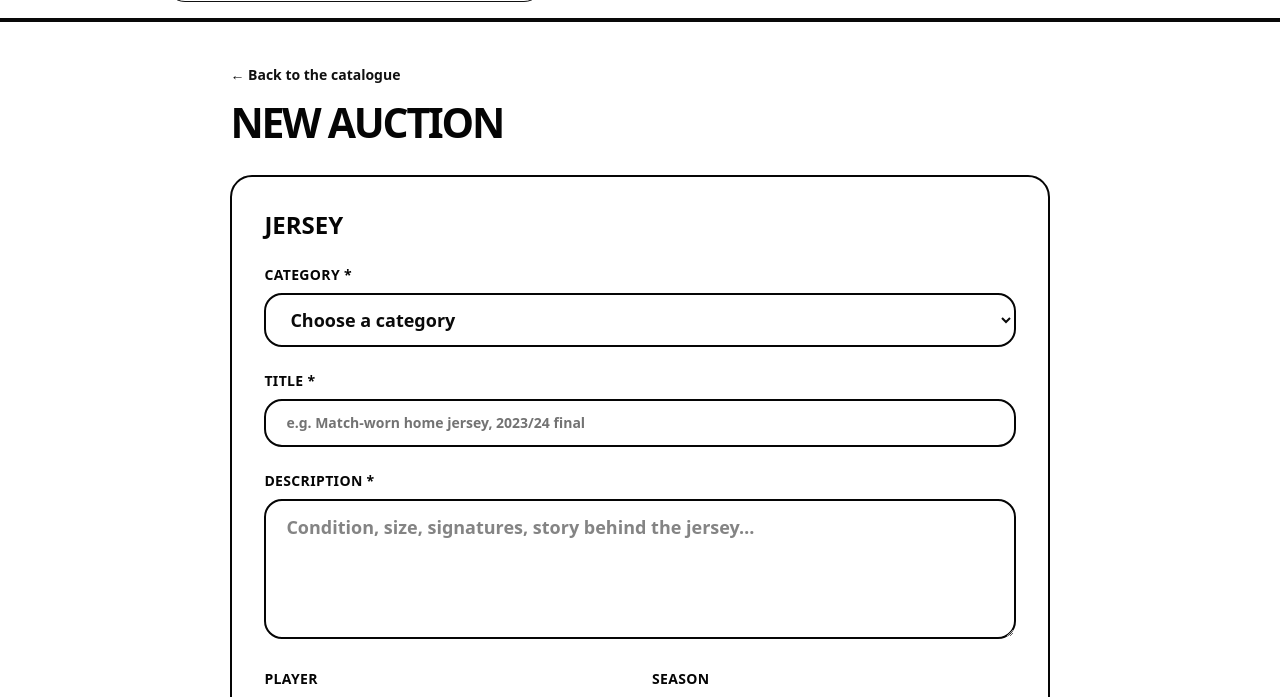
Test: NewListingView: saving › sends the listing for verification with the other button
Select "Player jerseys" in the dropdown labelled "Category *" at (640,320), box [264,293,1016,347]
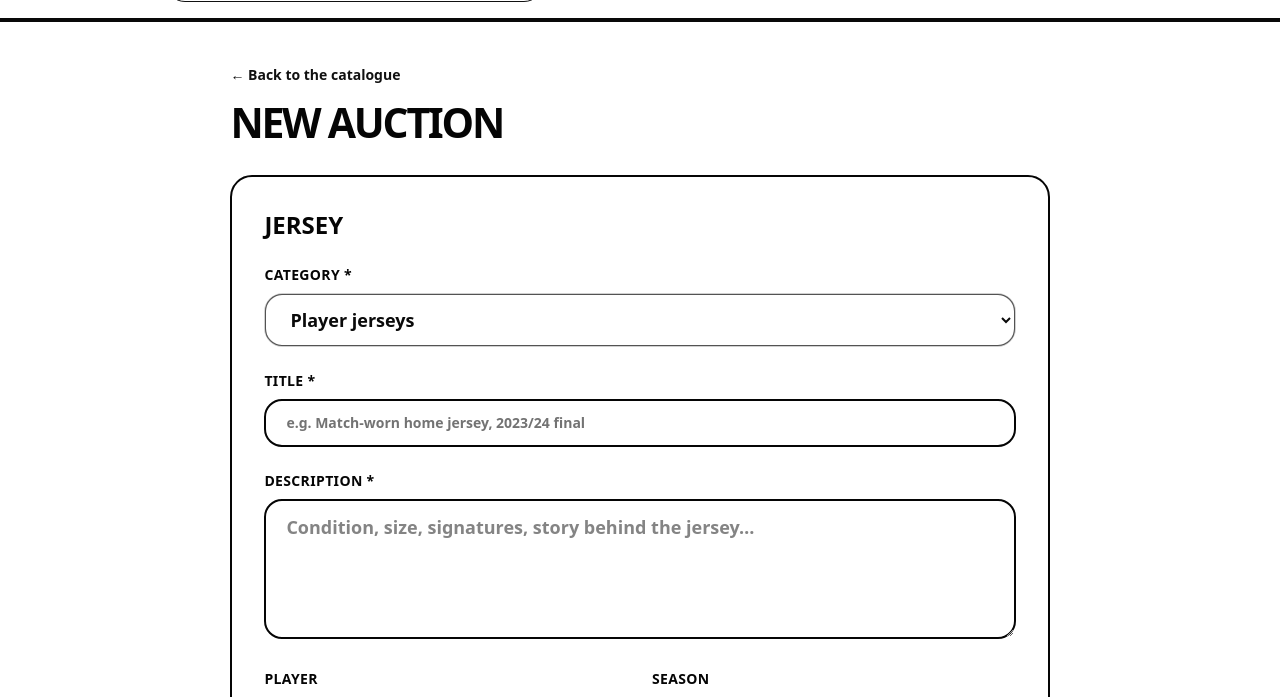
Type "Signed home shirt" into the field labelled "Title *" at (640,423), box [264,399,1016,447]
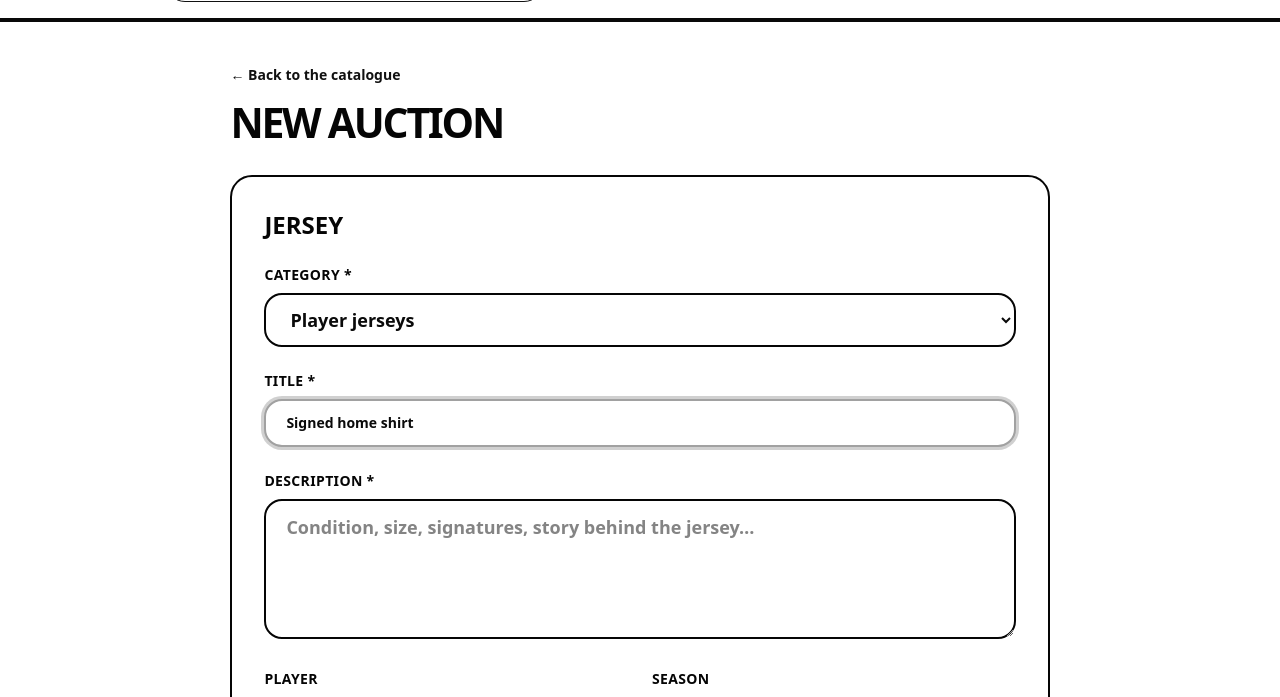
Type "Signed by the whole squad after the final." into the text box labelled "Description *" at (640,569), box [264,499,1016,639]
(page scrolled)
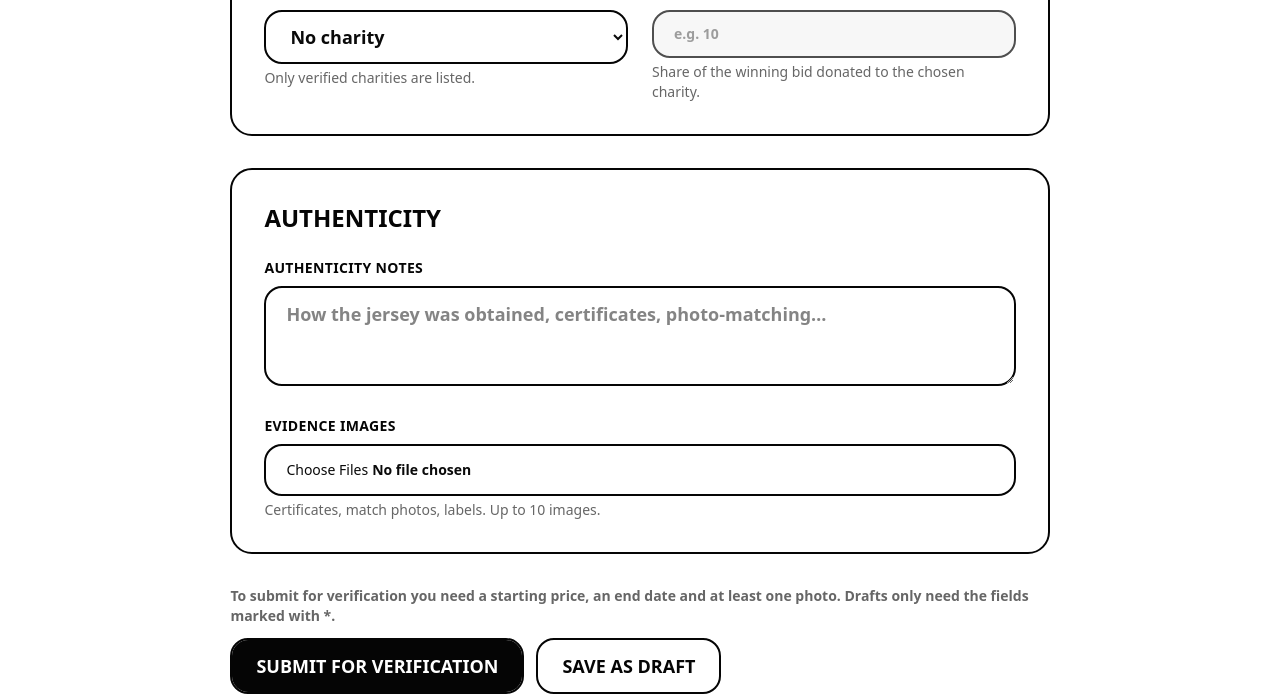
Click the button "SUBMIT FOR VERIFICATION" at (377,666), box [230,638,524,694]
(page scrolled)
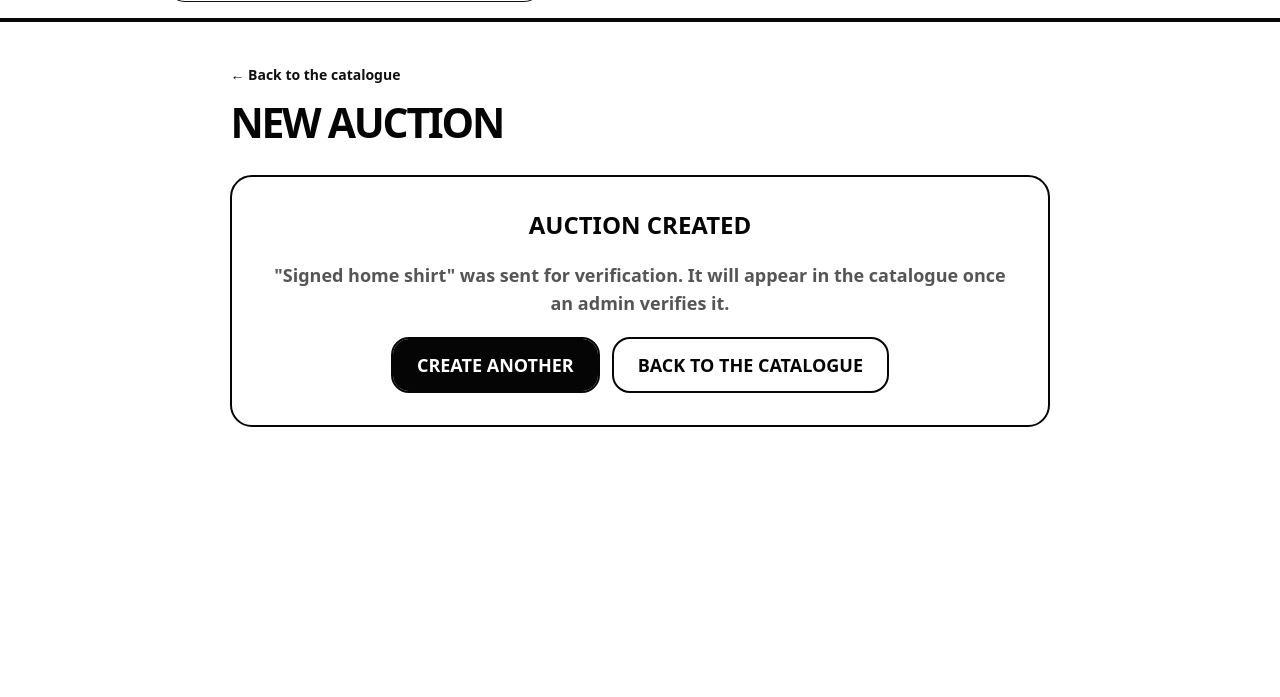
Now the text "was sent for verification" is shown, box [274,263,1006,315]
